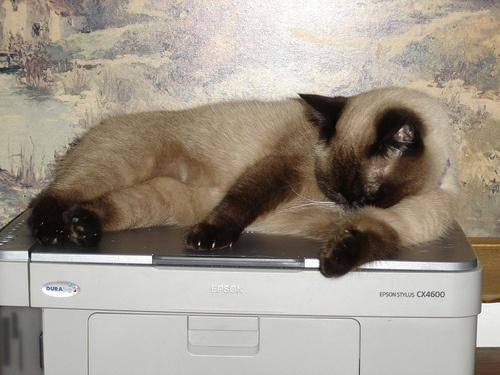cat: (27, 89, 464, 279)
